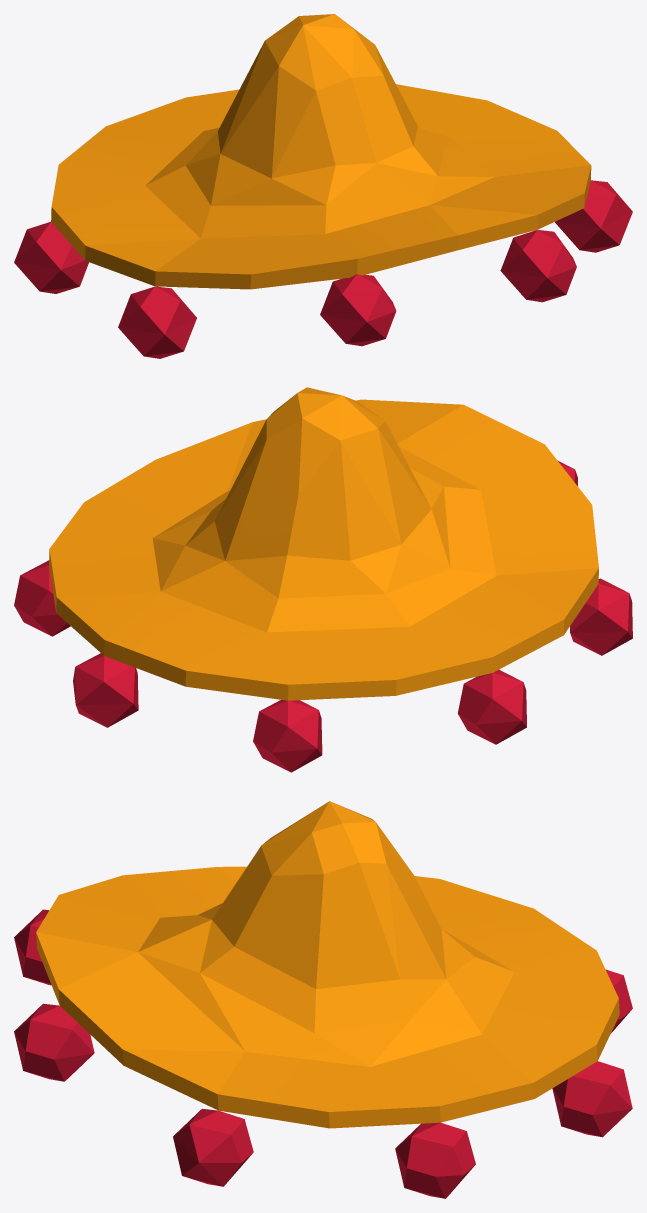
File: hat_sombrero.glb
The picture shows the model from 3 angles, top to bottom: view 1: azimuth 30°, elevation 25°; view 2: azimuth 150°, elevation 25°; view 3: azimuth 270°, elevation 25°; orthographic projection. The views are drawn at different scales.
Parts seen in each view (by area): view 1: Lp_SombreroHat01; view 2: Lp_SombreroHat01; view 3: Lp_SombreroHat01.
Part boxes in pixels (<box>): Lp_SombreroHat01: <box>14,14,632,358</box>; Lp_SombreroHat01: <box>14,387,632,772</box>; Lp_SombreroHat01: <box>14,801,632,1198</box>.
Size of the model in its own units: 0.664 by 0.3278 by 0.6637.
Materials: 1 (1 with a texture image).
